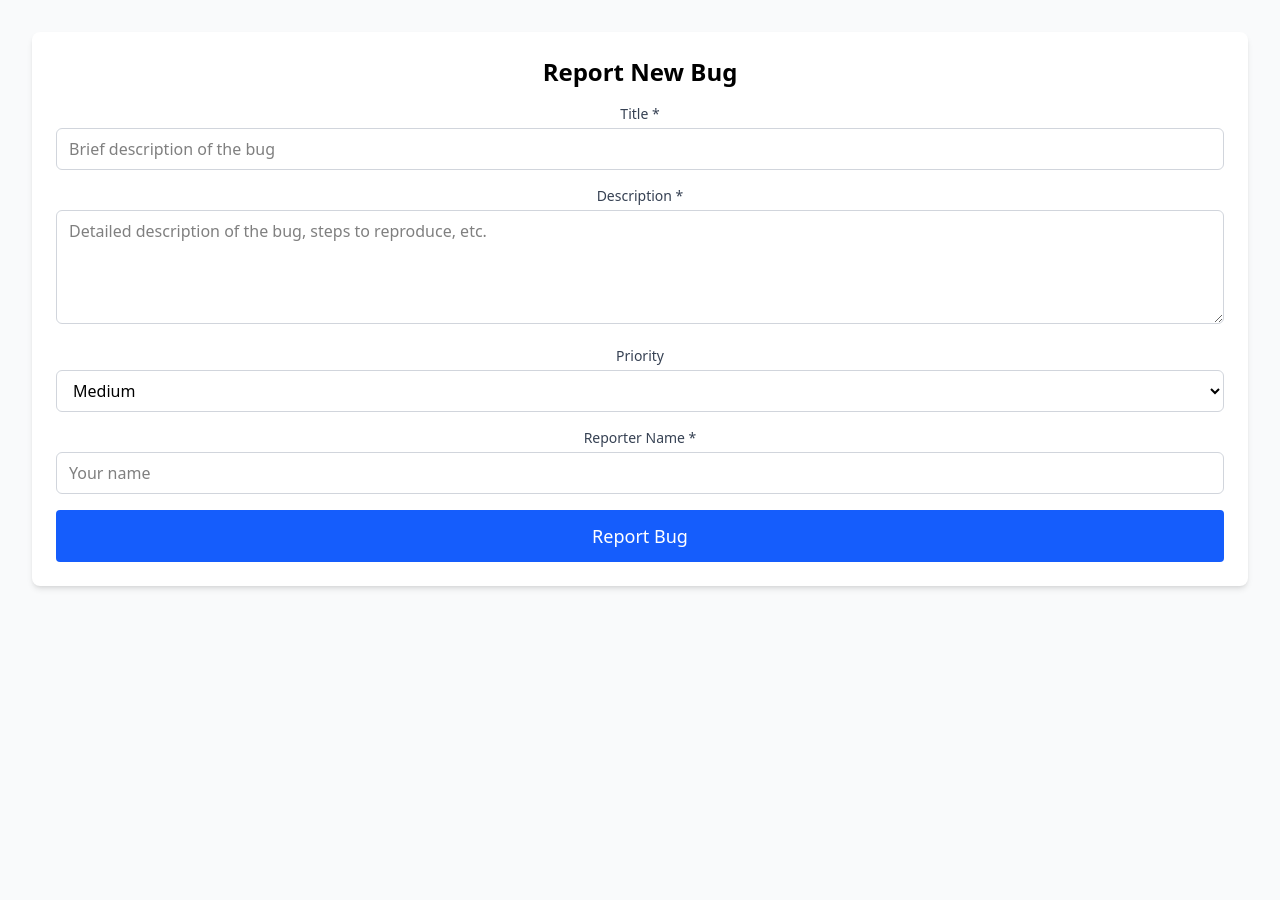
Test: BugForm Component › clears validation errors when user starts typing
Click the button "Report Bug". click: coordinates (640, 536)
box: [56, 510, 1224, 562]
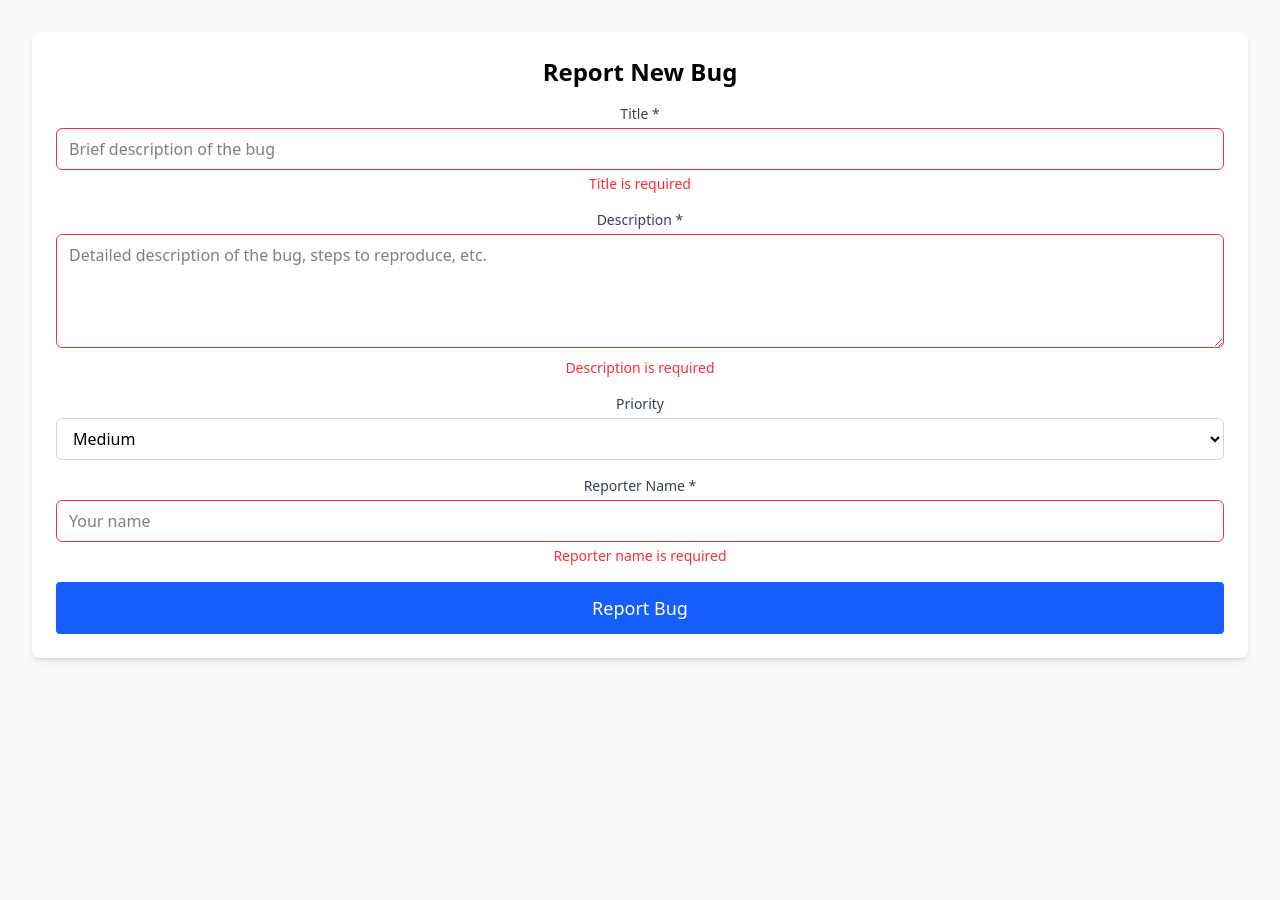
Expected: the text "Title is required" is shown, [589, 174, 691, 193]
Type "a" into the field labelled "Title *". click: coordinates (640, 149)
box: [56, 128, 1224, 170]
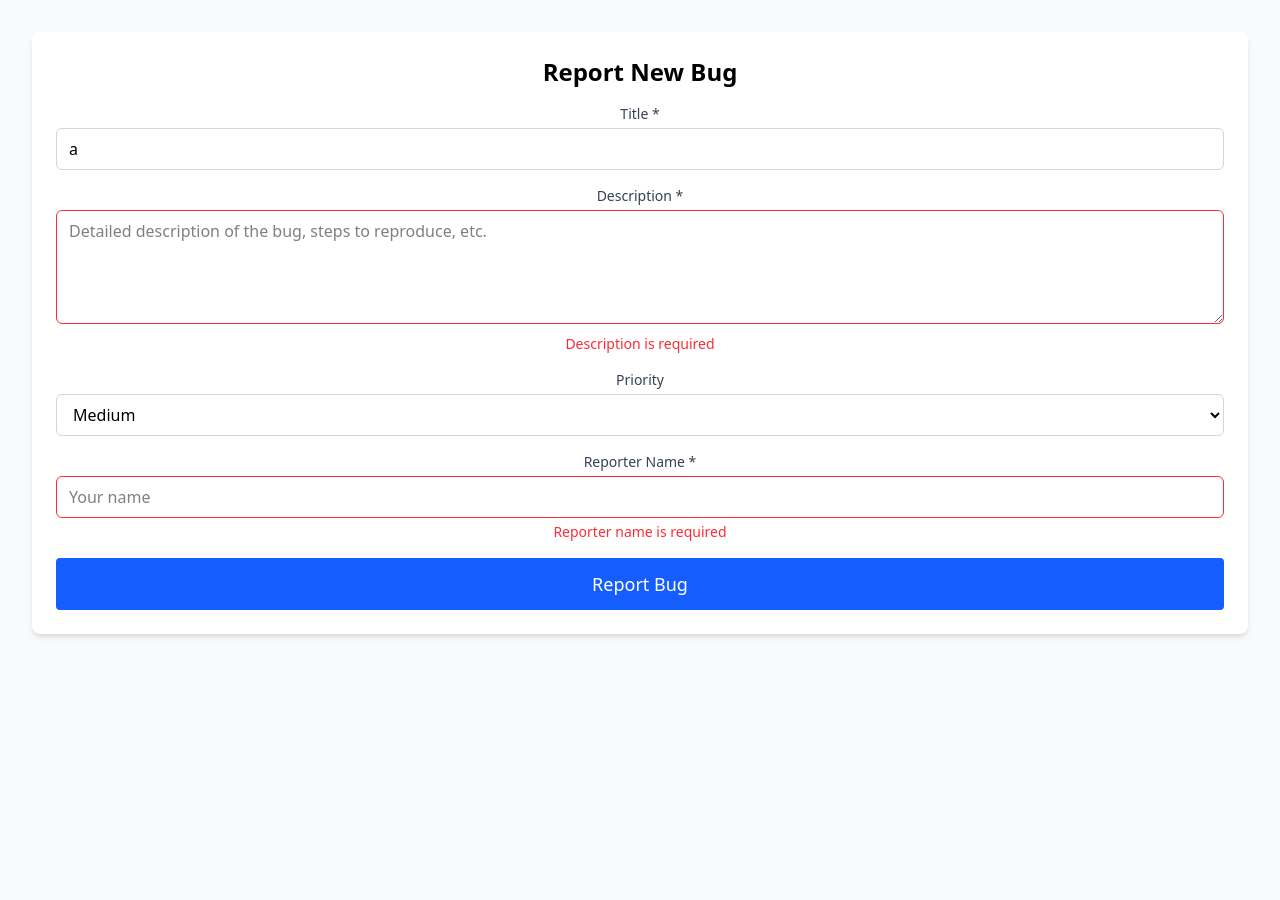
Expected: the text "Title is required" is gone
